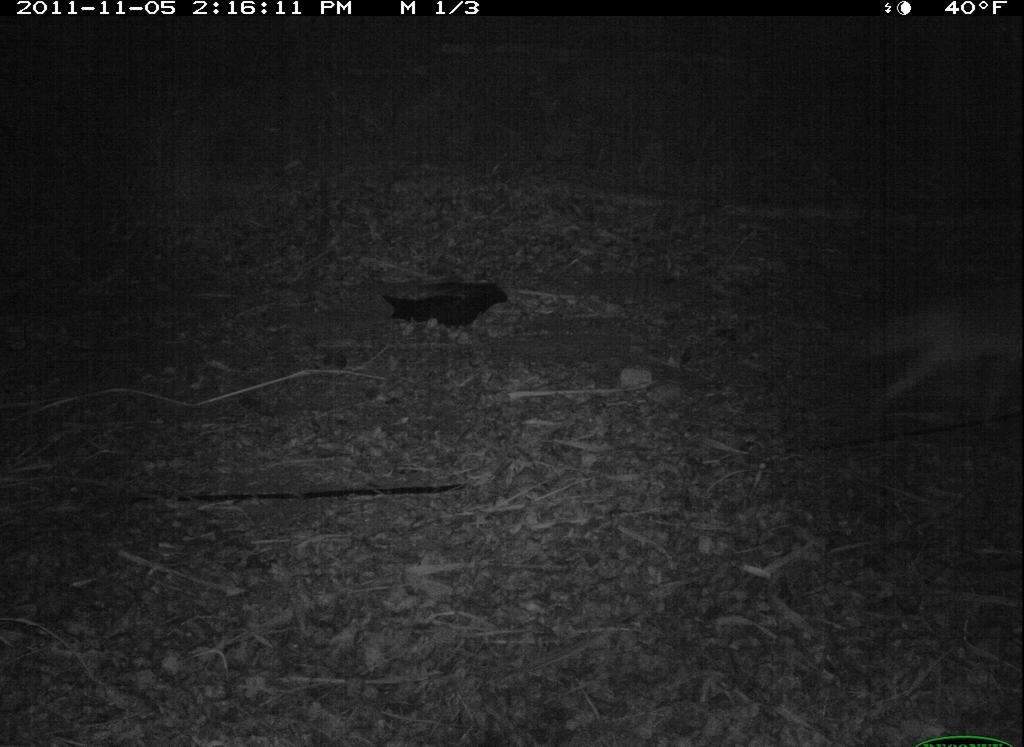coyote: (825, 268, 1022, 436)
